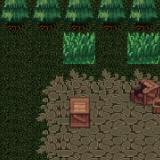Hide: (60, 91, 100, 134)
Obstacle: (129, 75, 160, 126), (126, 0, 160, 31), (63, 0, 95, 32), (31, 0, 63, 32), (95, 0, 126, 32), (0, 0, 31, 32)
Slow: (62, 32, 96, 64), (127, 33, 160, 64)
